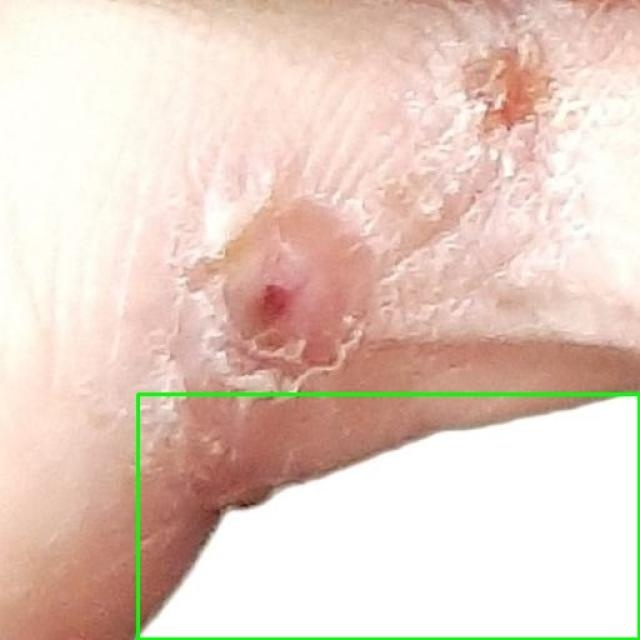Contact Dermatitis: (138, 394, 639, 639)
